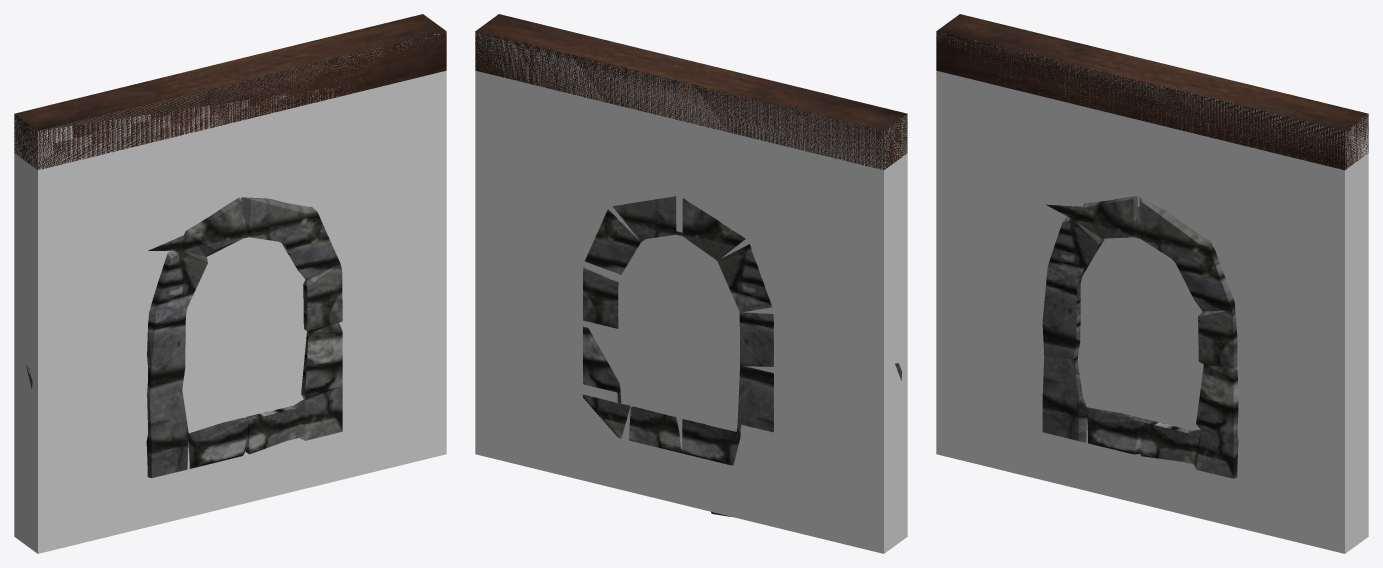
File: Window Open.fbx
3 views of the same model, side by side, from view 1: azimuth 30°, elevation 25°; view 2: azimuth 150°, elevation 25°; view 3: azimuth 330°, elevation 25° (orthographic).
Visible parts, largest first — view 1: Cube.001, Window Open; view 2: Cube.001, Window Open; view 3: Cube.001, Window Open.
Boxes of the visible parts, left/top/right/bottom form: Cube.001: left=14, top=31, right=446, bottom=553; Window Open: left=14, top=14, right=446, bottom=478; Cube.001: left=475, top=32, right=907, bottom=553; Window Open: left=475, top=14, right=907, bottom=516; Cube.001: left=936, top=32, right=1368, bottom=553; Window Open: left=936, top=14, right=1368, bottom=478.
Size of the model in its own units: 1058 by 1059 by 124.
Materials: 1 (1 with a texture image).
